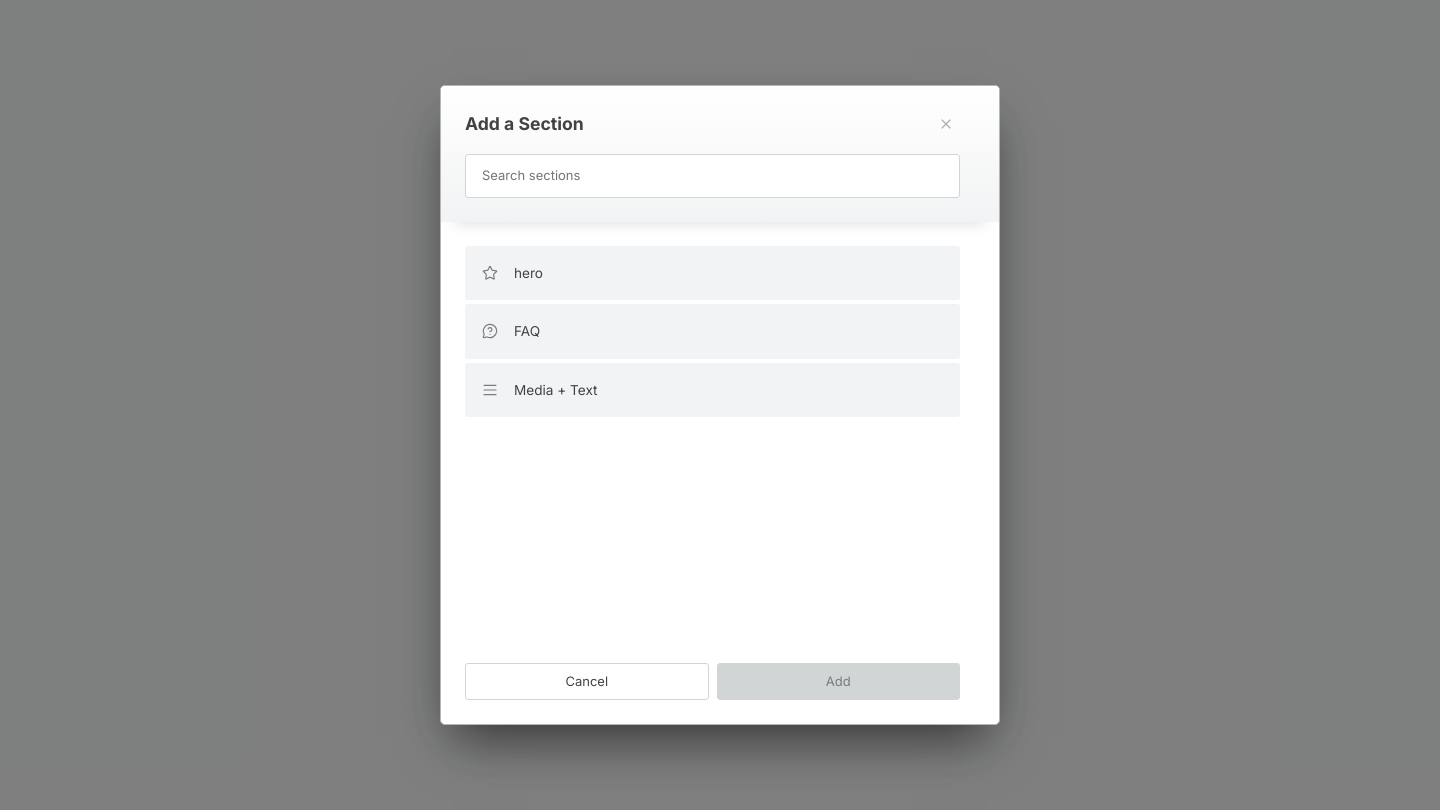
Test: AddSectionModal › a query matching nothing shows an empty message instead of a blank list
Type "nonexistent" into the search field with placeholder "Search sections".
click(712, 176); type("nonexistent")  # box [465,154,960,198]
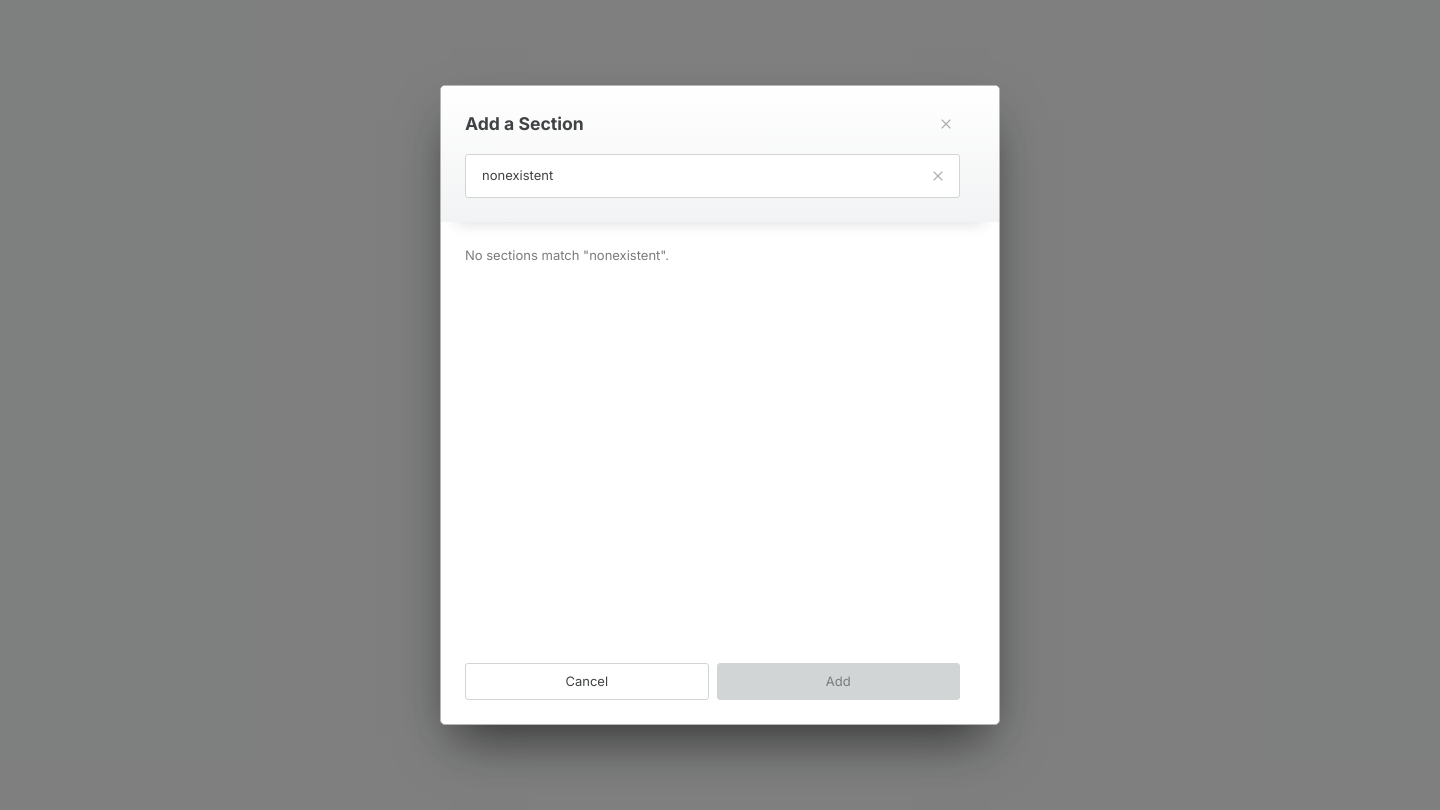
Check: the text "No sections match \"nonexistent\"." is shown, box [465,247,669,263]
